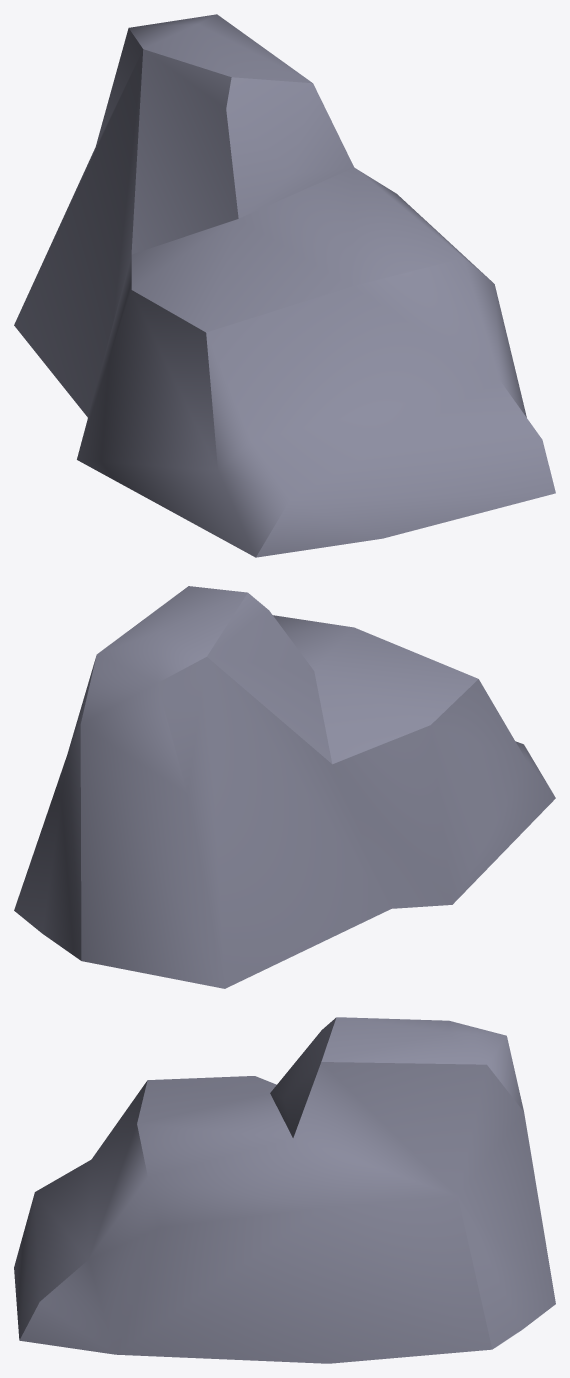
Rendered from Rock4.fbx.
The picture shows the model from 3 angles, top to bottom: view 1: azimuth 30°, elevation 25°; view 2: azimuth 150°, elevation 25°; view 3: azimuth 270°, elevation 25°; orthographic projection. The views are drawn at different scales.
Parts seen in each view (by area): view 1: Rock_4; view 2: Rock_4; view 3: Rock_4.
Part boxes in pixels (left/top/right/bottom): Rock_4: left=14, top=14, right=555, bottom=557; Rock_4: left=14, top=586, right=555, bottom=988; Rock_4: left=14, top=1017, right=555, bottom=1363.
Size of the model in its own units: 127 by 100 by 185.
